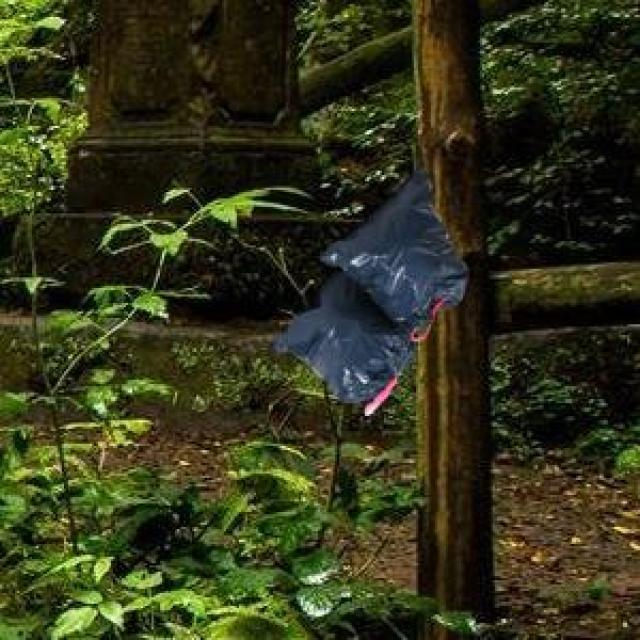miscellaneous trash: (267, 162, 463, 412)
